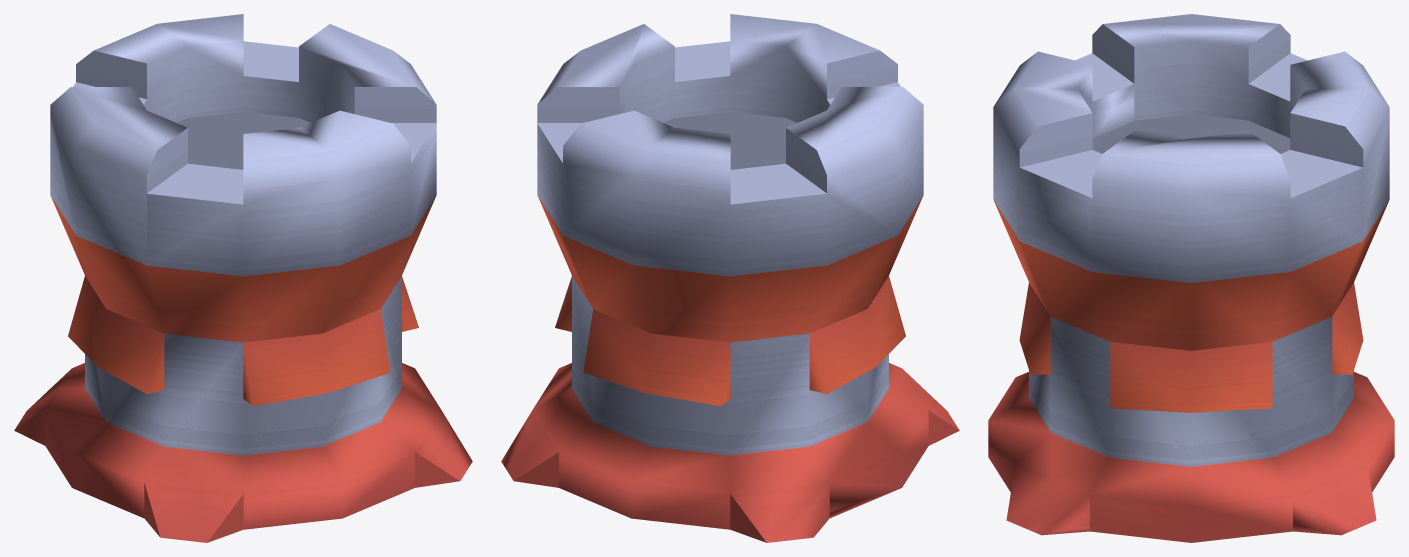
File: tower-round-build-b.glb
3 renders of one model, left to right at view 1: azimuth 30°, elevation 25°; view 2: azimuth 150°, elevation 25°; view 3: azimuth 270°, elevation 25°, orthographic. The views are drawn at different scales.
Visible parts, largest first — view 1: tower-round-build-b; view 2: tower-round-build-b; view 3: tower-round-build-b.
Part boxes in pixels (x1,y1,x2,y2): tower-round-build-b: (14,14,472,542); tower-round-build-b: (501,14,959,542); tower-round-build-b: (988,14,1394,542).
Size of the model in its own units: 1 by 1 by 1.
1 material, 1 textured.
